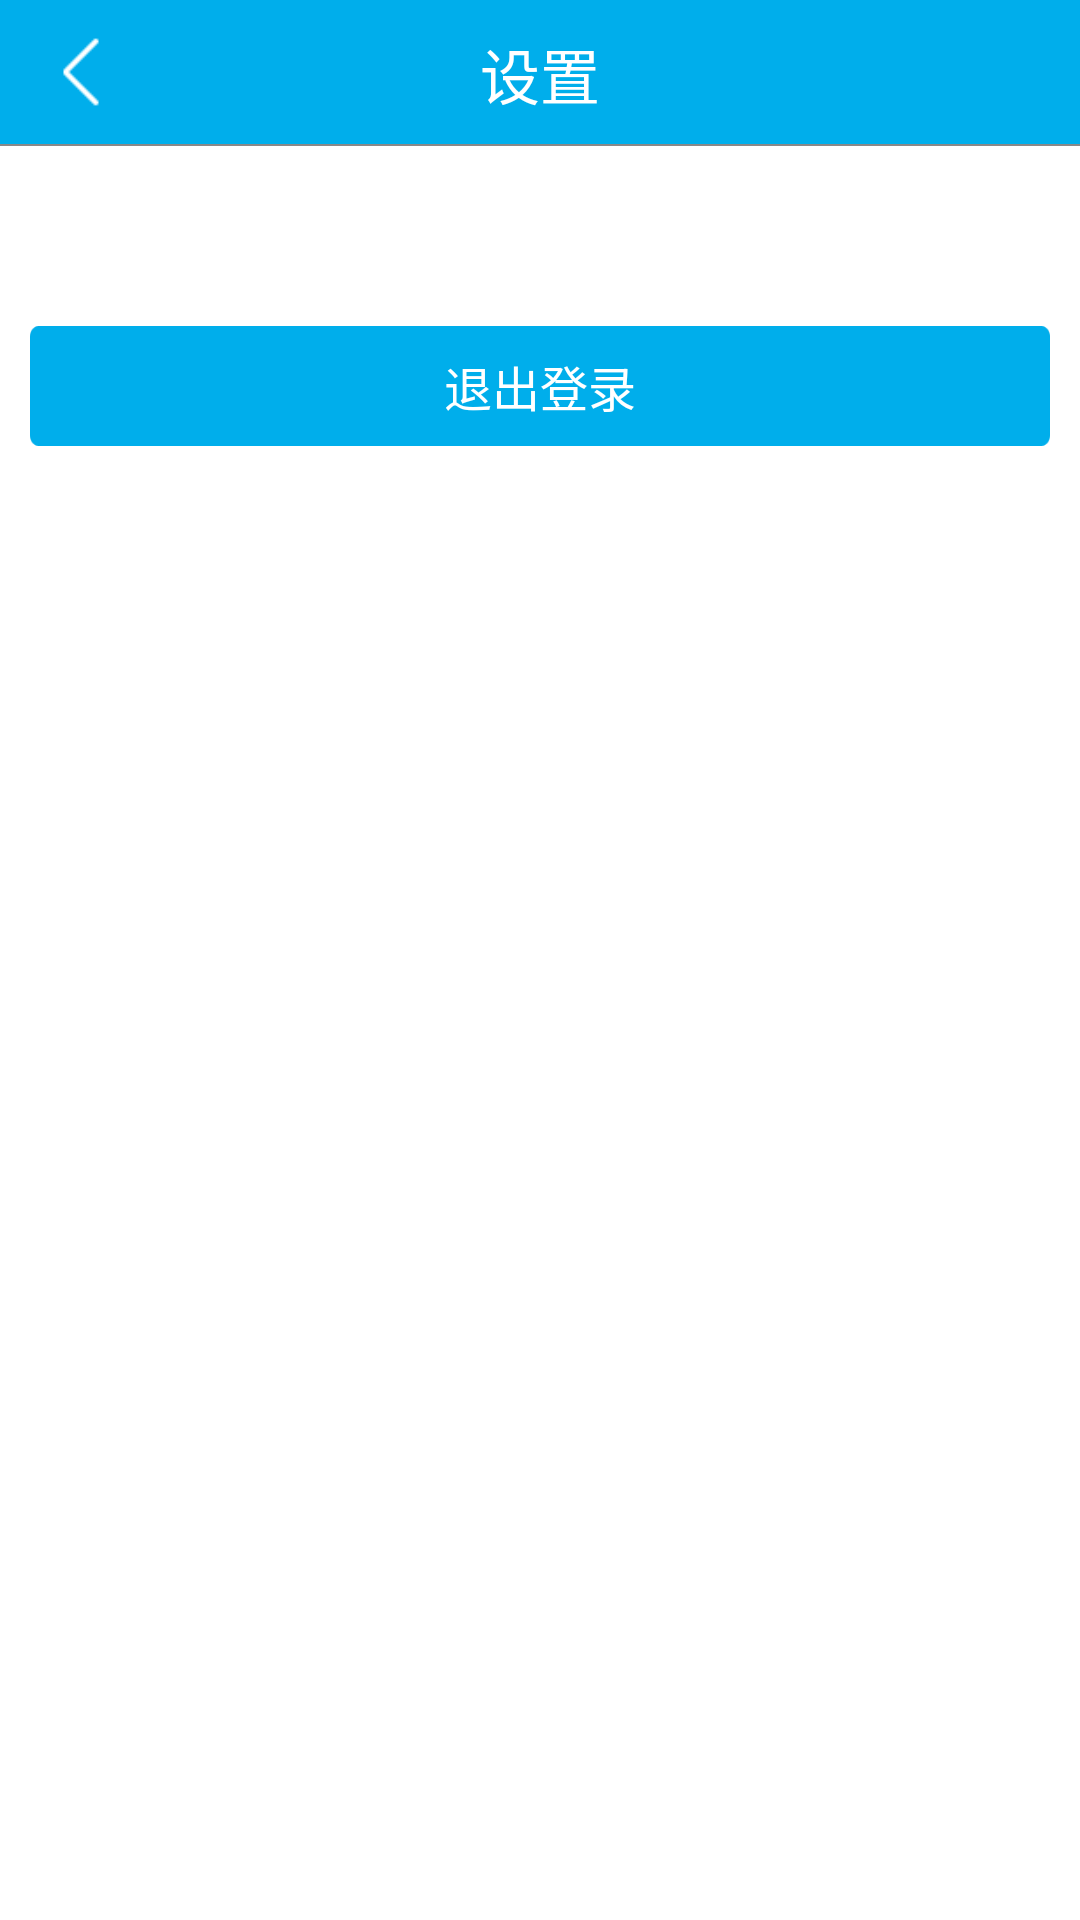

Point at icon controls on the screen. Image size 1080 x 1920, points as [x,y].
back: [81,72]
